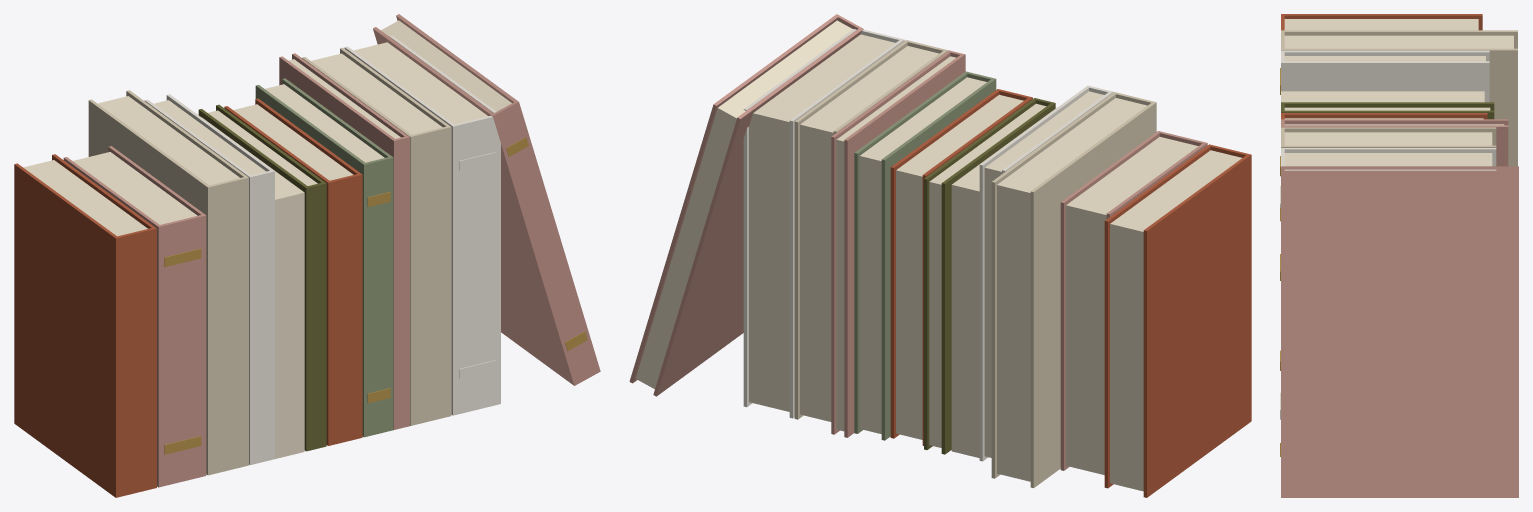
3 views of the same model, side by side, from view 1: azimuth 30°, elevation 25°; view 2: azimuth 150°, elevation 25°; view 3: azimuth 270°, elevation 25° (orthographic). The views are drawn at different scales.
Visible parts, largest first — view 1: book, book.002, book.011, book.010, book.001, book.009, book.006, book.007, book.003, book.005, book.008, book.004; view 2: book, book.002, book.011, book.010, book.001, book.009, book.007, book.006, book.008, book.005, book.004, book.003; view 3: book.011, book.003, book.002, book.010, book.009, book, book.008, book.004, book.005, book.006.
Part boxes in pixels (x1,y1,x2,y2): book: [14, 154, 156, 497]; book.002: [88, 90, 248, 475]; book.011: [373, 14, 600, 385]; book.010: [344, 35, 500, 415]; book.001: [63, 146, 206, 487]; book.009: [302, 47, 451, 425]; book.006: [224, 98, 362, 445]; book.007: [255, 78, 393, 437]; book.003: [144, 94, 274, 464]; book.005: [198, 104, 326, 451]; book.008: [279, 53, 409, 429]; book.004: [202, 117, 304, 458]; book: [1104, 144, 1251, 497]; book.002: [991, 92, 1156, 488]; book.011: [629, 14, 863, 396]; book.010: [743, 29, 904, 418]; book.001: [1060, 131, 1207, 474]; book.009: [794, 40, 948, 421]; book.007: [854, 71, 996, 440]; book.006: [890, 89, 1032, 445]; book.008: [831, 50, 965, 437]; book.005: [924, 98, 1055, 454]; book.004: [951, 107, 1057, 457]; book.003: [979, 85, 1113, 461]; book.011: [1280, 166, 1518, 497]; book.003: [1281, 50, 1489, 102]; book.002: [1281, 30, 1517, 166]; book.010: [1280, 148, 1496, 419]; book.009: [1281, 127, 1496, 147]; book: [1281, 14, 1482, 30]; book.008: [1281, 119, 1508, 166]; book.004: [1281, 91, 1484, 102]; book.005: [1281, 102, 1494, 119]; book.006: [1281, 113, 1487, 119].
Bounding box in the file's own units: 0.4252 × 0.2496 × 0.1829.
